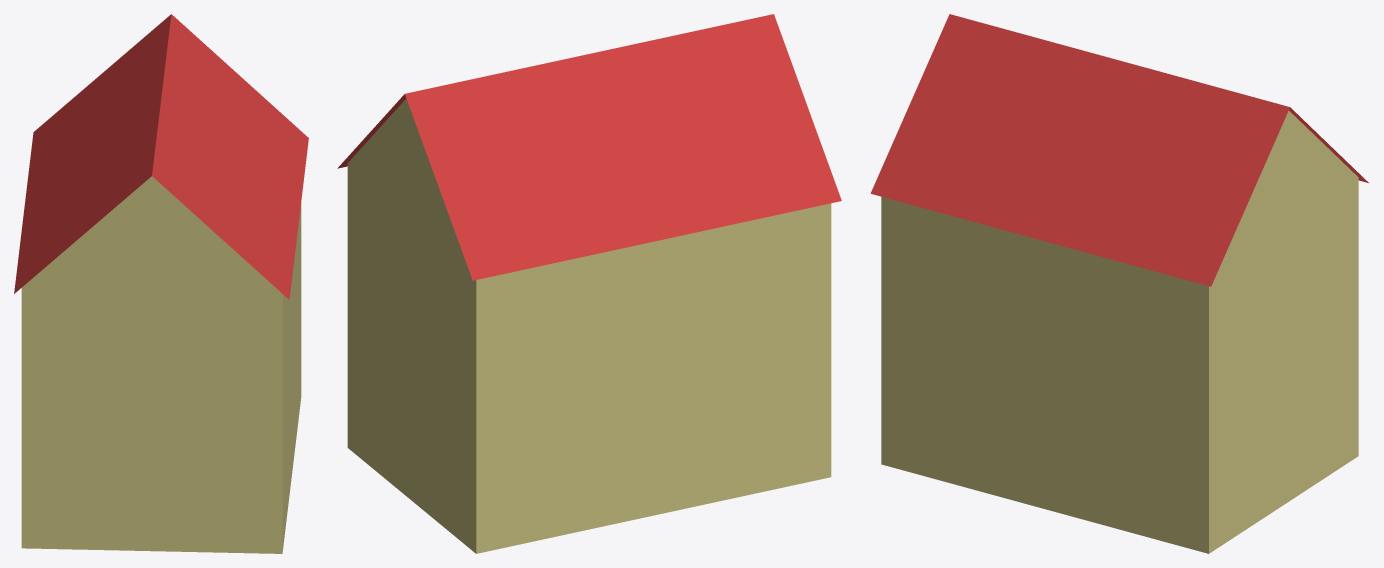
The picture shows the model from 3 angles, left to right: view 1: azimuth 30°, elevation 25°; view 2: azimuth 150°, elevation 25°; view 3: azimuth 270°, elevation 25°; orthographic projection. The views are drawn at different scales.
Bounding box in the file's own units: 14.93 × 16.02 × 14.16.
